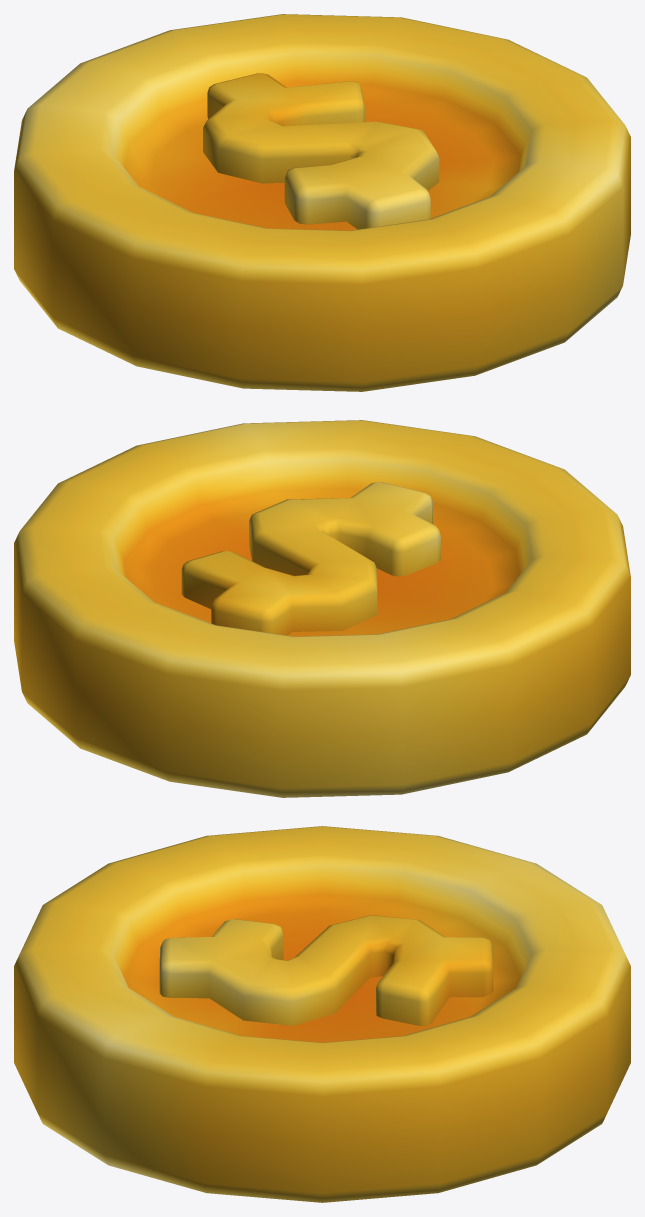
File: SM_coin_002.fbx
3 views of the same model, one above another, from view 1: azimuth 30°, elevation 25°; view 2: azimuth 150°, elevation 25°; view 3: azimuth 270°, elevation 25° (orthographic).
Visible parts, largest first — view 1: SM_coin_002; view 2: SM_coin_002; view 3: SM_coin_002.
Boxes of the visible parts, x1,y1,x2,y2 form: SM_coin_002: (14, 14, 630, 391); SM_coin_002: (14, 420, 630, 797); SM_coin_002: (14, 826, 630, 1202).
Size of the model in its own units: 50 by 11.7 by 50.
